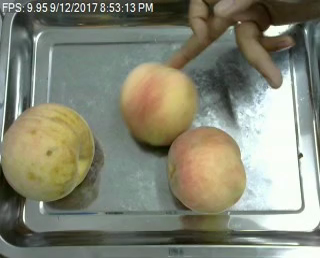Peach: (0, 101, 95, 202), (169, 124, 248, 215), (121, 63, 199, 146)
